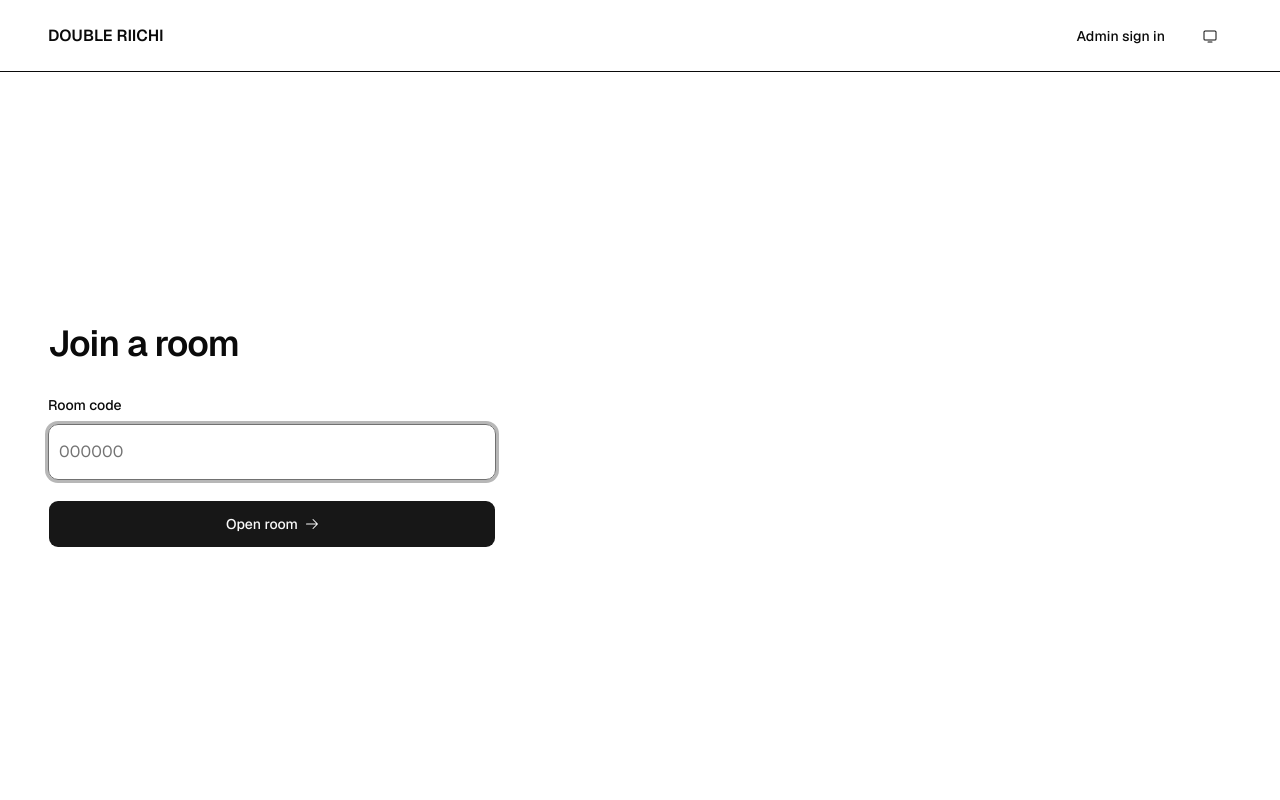
entry shell › missing_room_stays_on_entry
This screenshot has width=1280, height=800.
Step 1. Type "123456" into the field labelled "Room code" → (272, 452), box x1=48 y1=424 x2=496 y2=480
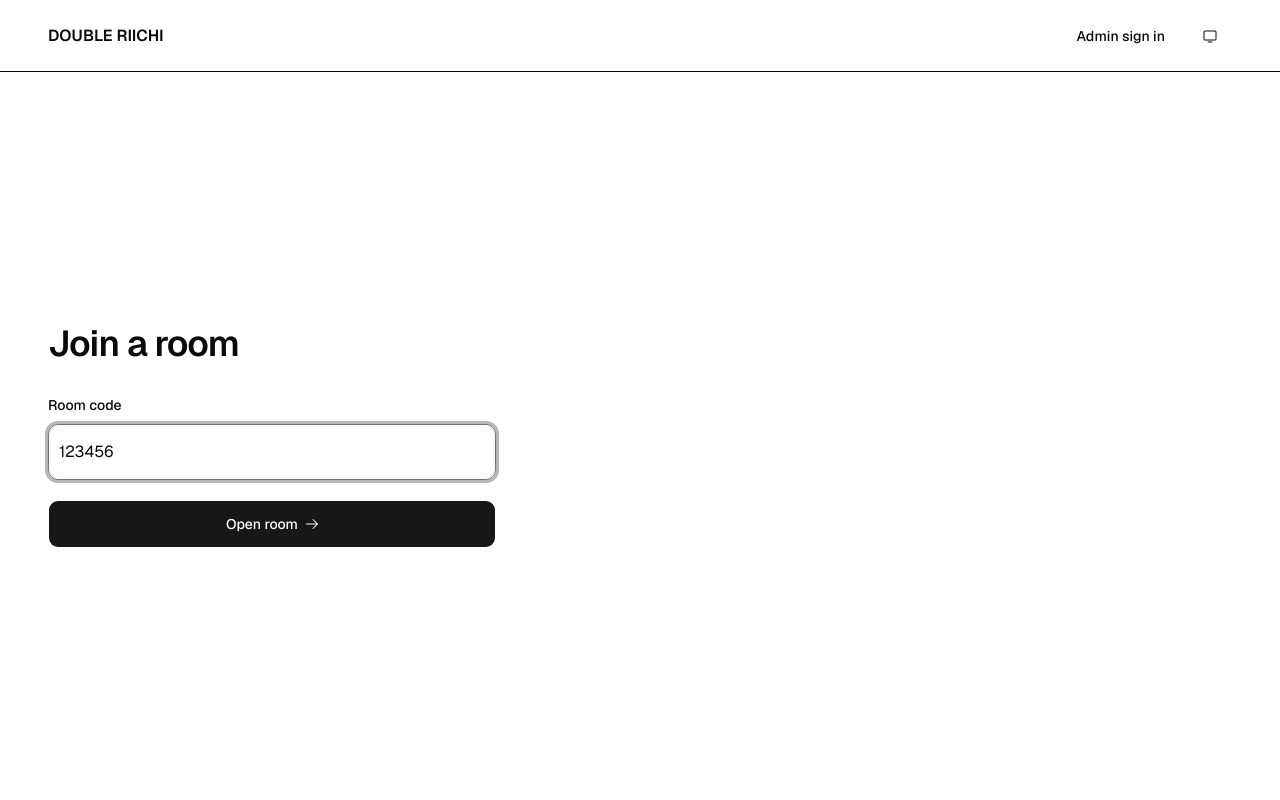
Step 2. Submit the form labelled "Room code", box x1=48 y1=396 x2=496 y2=548
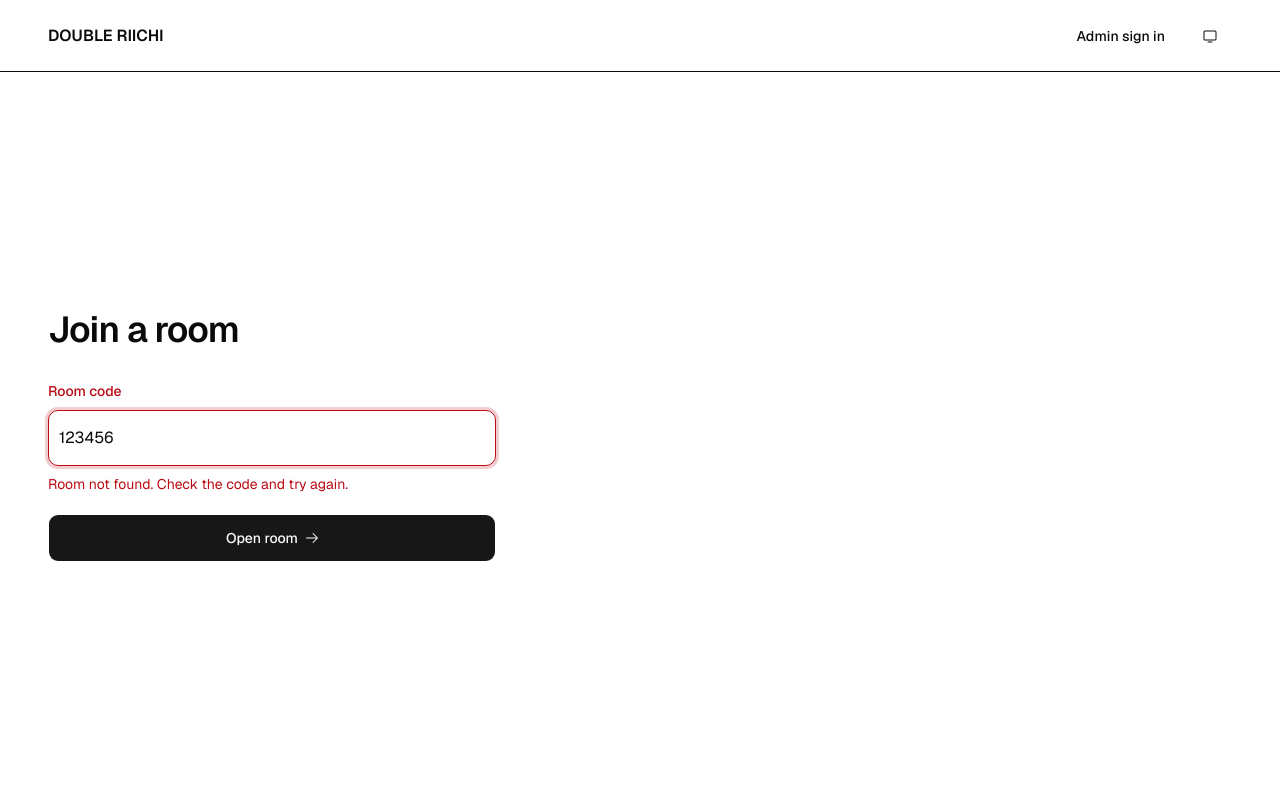
expect the field labelled "Room code" has attribute aria-describedby="room-code-error": met
Step 3. Replace the text in the field labelled "Room code" with "123457" → (272, 438), box x1=48 y1=410 x2=496 y2=466
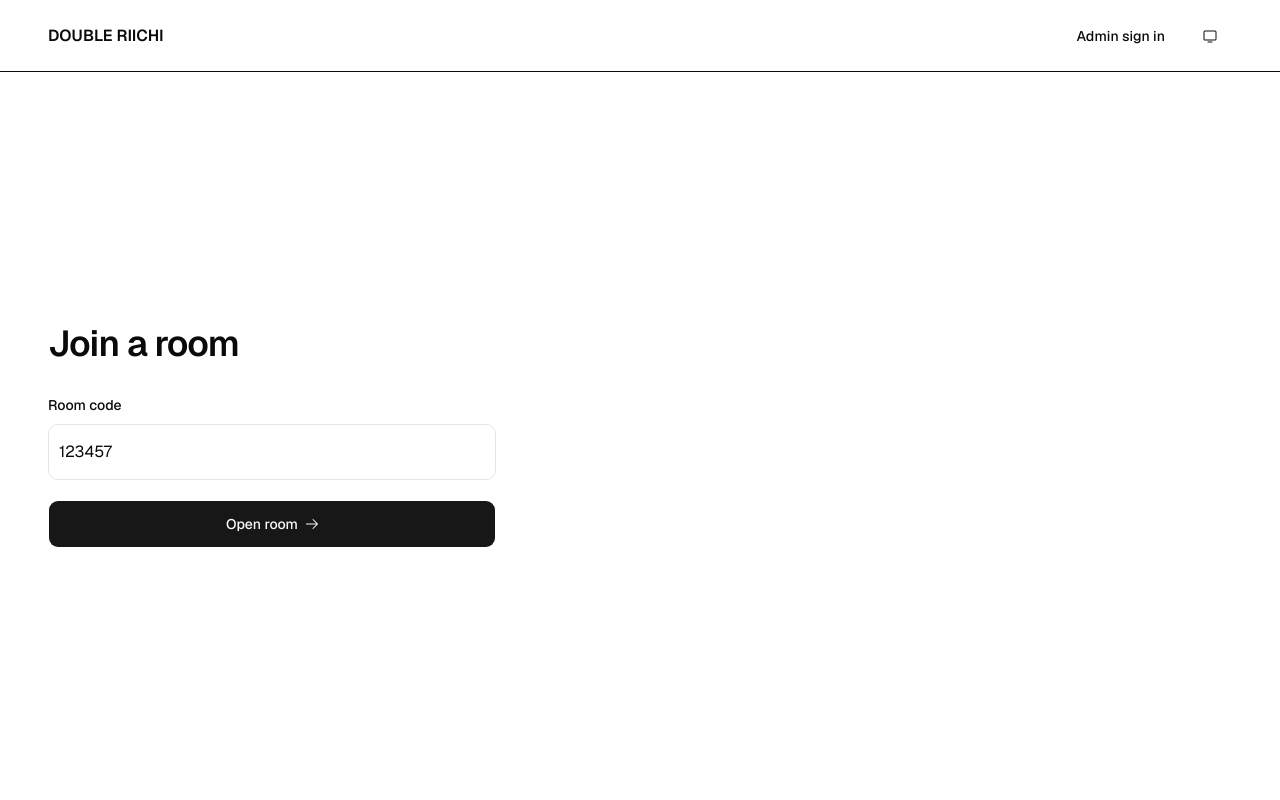
expect the text "Room not found. Check the code and try again." is gone: met
